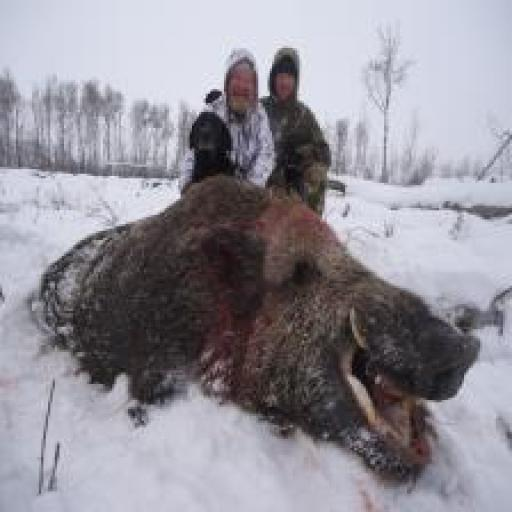Pig: (41, 174, 480, 484)
